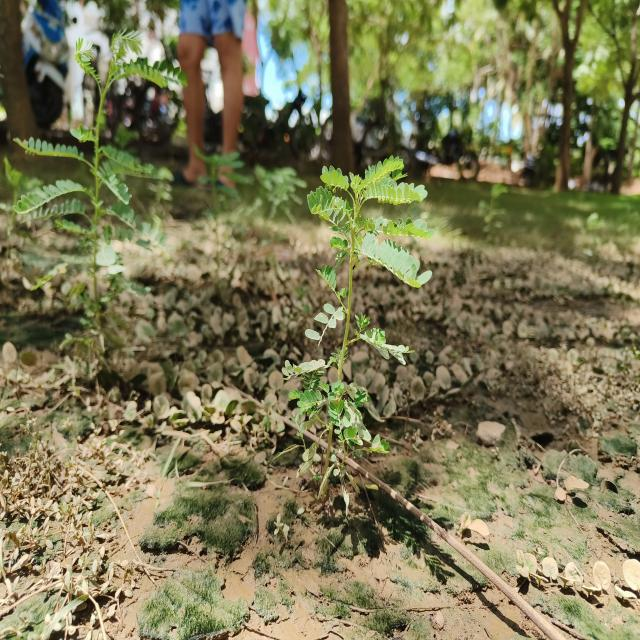weed: (7, 25, 185, 349), (291, 146, 438, 475)
